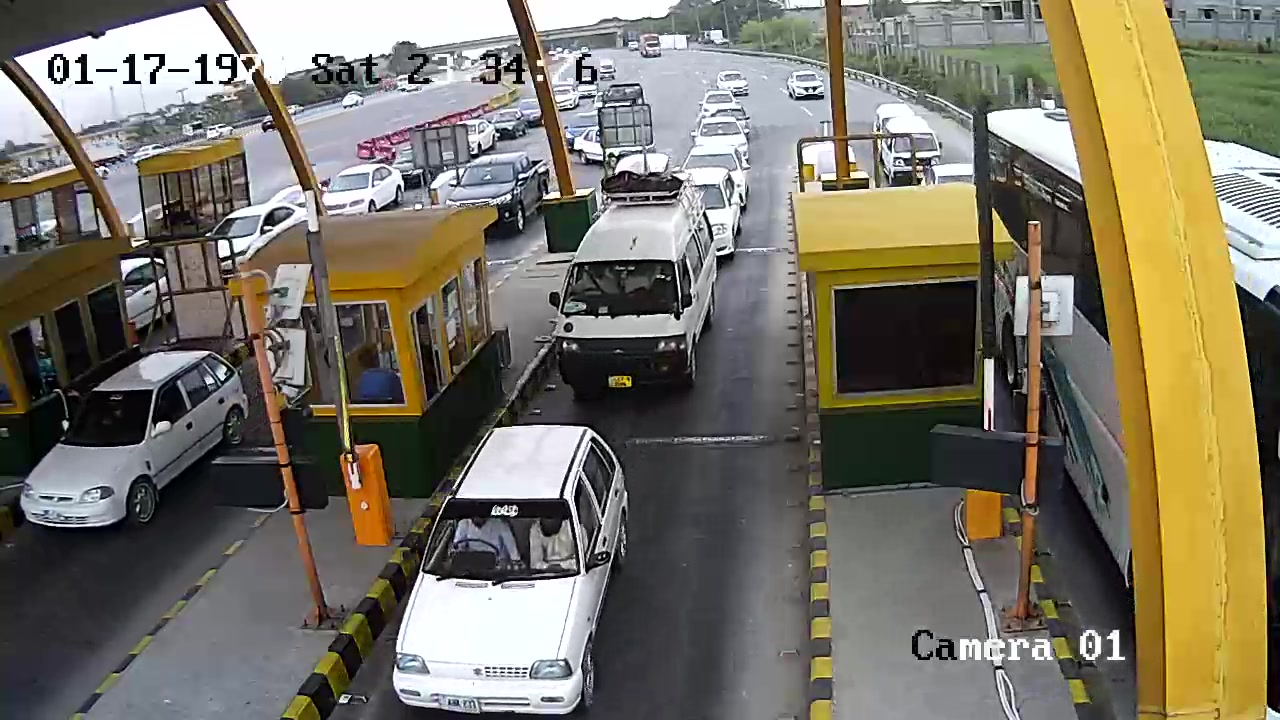F2: (560, 156, 719, 399)
